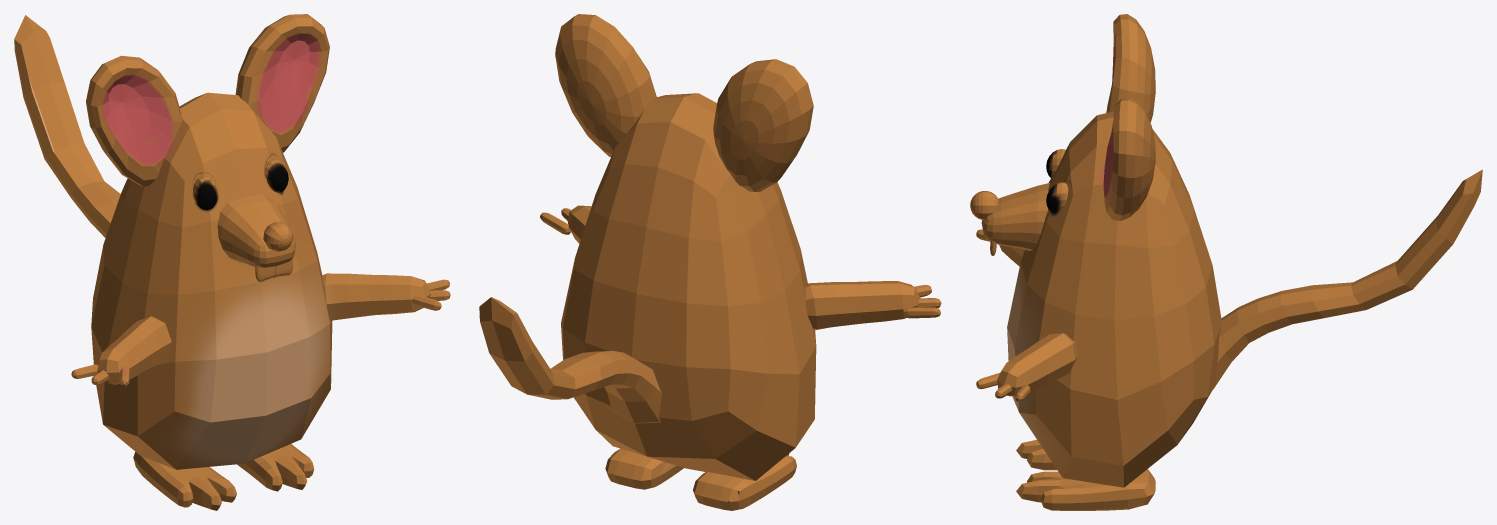
The model's file is rat.fbx.
3 renders of one model, left to right at view 1: azimuth 30°, elevation 25°; view 2: azimuth 150°, elevation 25°; view 3: azimuth 270°, elevation 25°, orthographic. The views are drawn at different scales.
Visible parts, largest first — view 1: Rat; view 2: Rat; view 3: Rat.
Boxes of the visible parts, left/top/right/bottom form: Rat: left=14, top=14, right=450, bottom=510; Rat: left=479, top=14, right=941, bottom=510; Rat: left=970, top=14, right=1482, bottom=510.
Bounding box in the file's own units: 0.6105 × 0.6657 × 0.7302.
